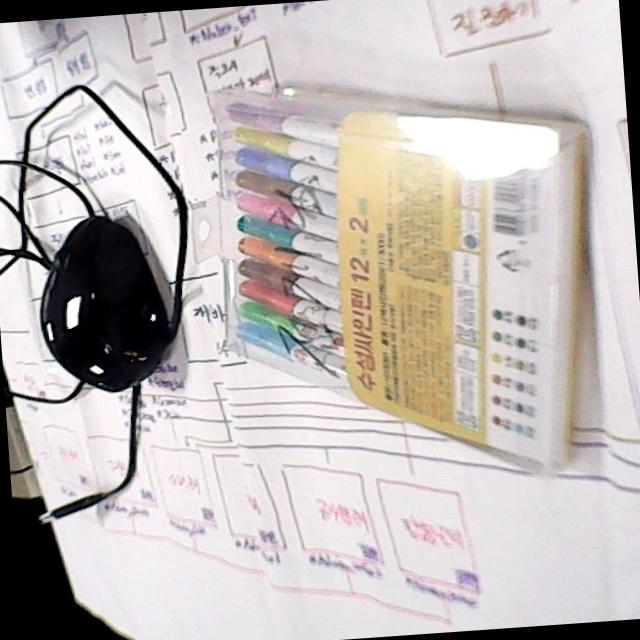mouse: (33, 201, 179, 396)
signpen: (217, 79, 597, 487)
